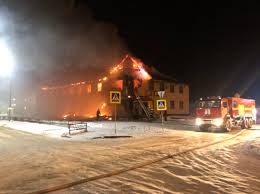fire: (96, 49, 162, 89)
